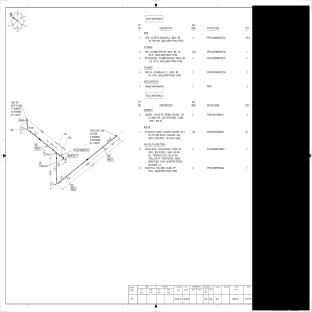elbow: (27, 124, 31, 132), (56, 179, 60, 184)
flange: (26, 120, 28, 123)
support: (65, 175, 68, 178), (101, 146, 105, 148), (46, 143, 48, 147)
tee: (53, 150, 60, 158)
valve: (62, 156, 65, 161)
weld: (59, 181, 61, 183), (30, 131, 31, 133), (53, 149, 54, 151), (56, 157, 57, 159), (56, 178, 57, 180), (116, 135, 117, 137), (27, 123, 28, 124), (59, 155, 60, 156)
